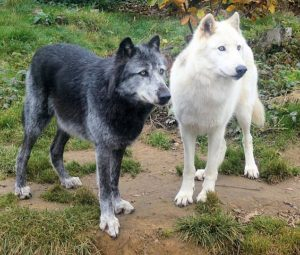Lobo: (15, 29, 170, 219), (165, 11, 273, 199)
